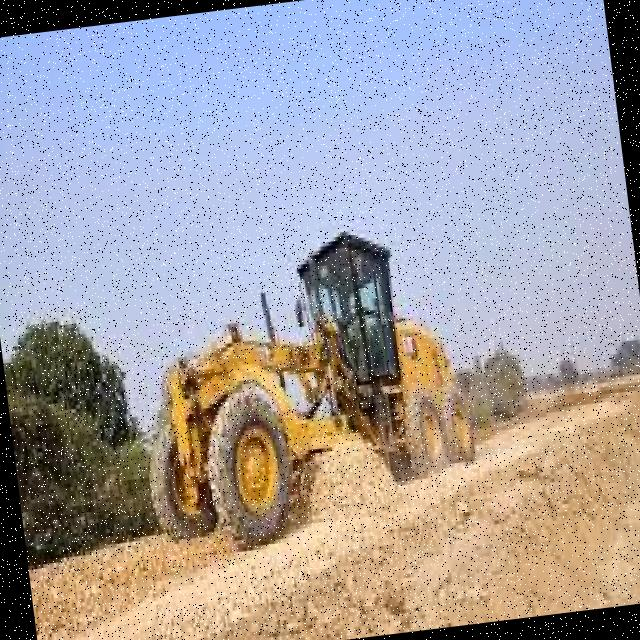Grader: (89, 187, 488, 534)
